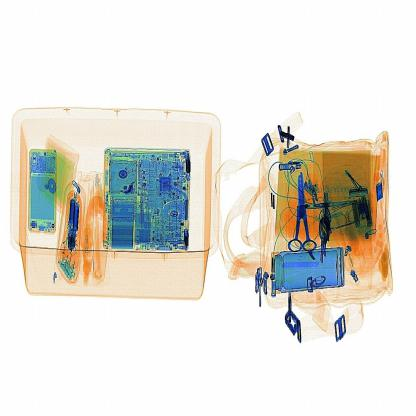gun: (282, 162, 319, 263)
